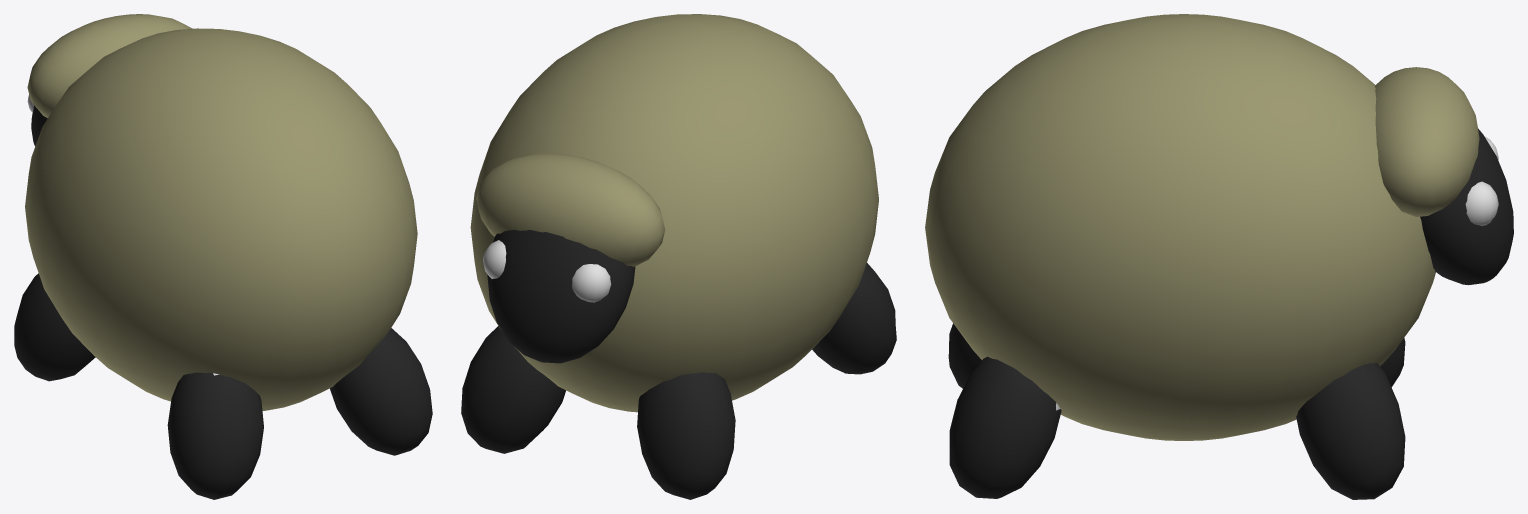
The model's file is sheep.dae.
The picture shows the model from 3 angles, left to right: view 1: azimuth 30°, elevation 25°; view 2: azimuth 150°, elevation 25°; view 3: azimuth 270°, elevation 25°; orthographic projection. The views are drawn at different scales.
Parts seen in each view (by area): view 1: Sheep; view 2: Sheep; view 3: Sheep.
Part boxes in pixels (x1,y1,x2,y2): Sheep: (14, 14, 432, 499); Sheep: (461, 14, 896, 499); Sheep: (925, 14, 1513, 499).
Size of the model in its own units: 1.64 by 2.27 by 1.76.
